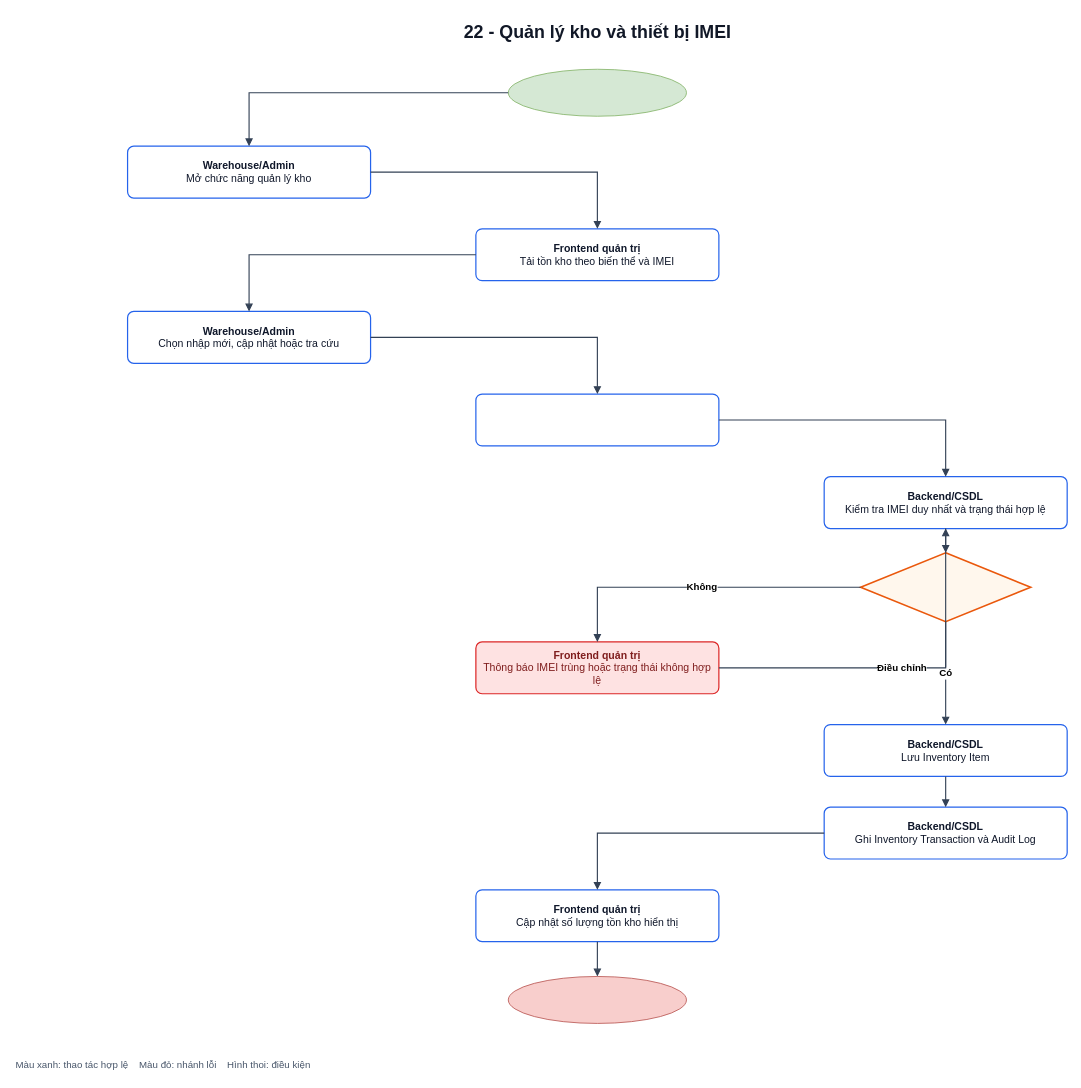
Some shapes in this 1081 by 1088 pixel diagram are drawn without their labels. The shapes that lost their labels are listed below. From the top down, each one's box as (x1, y1, x2, y2) in pixels, then its label:
(507, 68, 686, 116): Bắt đầu
(475, 393, 719, 446): Frontend quản trị Nhập IMEI, biến thể và trạng thái
(859, 552, 1031, 622): Thông tin hợp lệ?
(507, 976, 686, 1023): Kết thúc
